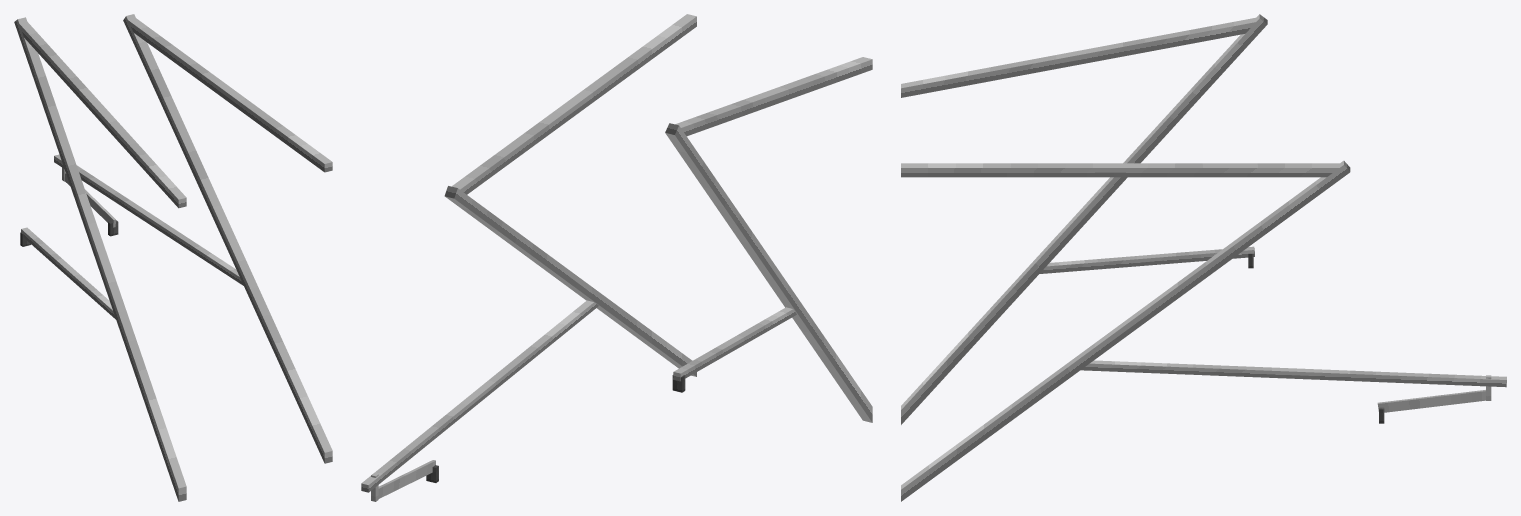
File: cantilever_outer_12px.obj
3 renders of one model, left to right at view 1: azimuth 30°, elevation 25°; view 2: azimuth 150°, elevation 25°; view 3: azimuth 270°, elevation 25°, orthographic. The views are drawn at different scales.
Visible parts, largest first — view 1: 8adb7ac7-01f4-4c60-bfbc-52bb55ed9abe, 7edc1b99-2734-4573-aefd-58bcea4c3765, d285e57c-16e2-46a6-8f0f-abcd75b3137a, 65ffa416-6d30-4f7e-a0d7-afe5b6a3596b, a381d38c-f8b1-497d-aab5-be5fb8c6c08d, 1c099699-9a80-4d9c-9557-8b63555a60a2; view 2: 8adb7ac7-01f4-4c60-bfbc-52bb55ed9abe, d285e57c-16e2-46a6-8f0f-abcd75b3137a, 7edc1b99-2734-4573-aefd-58bcea4c3765, a381d38c-f8b1-497d-aab5-be5fb8c6c08d, 65ffa416-6d30-4f7e-a0d7-afe5b6a3596b, 1c099699-9a80-4d9c-9557-8b63555a60a2, 344703ef-8aad-44cc-b45a-fd79553ca69f; view 3: 7edc1b99-2734-4573-aefd-58bcea4c3765, 8adb7ac7-01f4-4c60-bfbc-52bb55ed9abe, d285e57c-16e2-46a6-8f0f-abcd75b3137a, 65ffa416-6d30-4f7e-a0d7-afe5b6a3596b, a381d38c-f8b1-497d-aab5-be5fb8c6c08d, 1c099699-9a80-4d9c-9557-8b63555a60a2, 344703ef-8aad-44cc-b45a-fd79553ca69f.
Part boxes in pixels (left/top/right/bottom): 8adb7ac7-01f4-4c60-bfbc-52bb55ed9abe: left=14, top=17, right=186, bottom=501; 7edc1b99-2734-4573-aefd-58bcea4c3765: left=123, top=14, right=332, bottom=463; d285e57c-16e2-46a6-8f0f-abcd75b3137a: left=128, top=18, right=332, bottom=172; 65ffa416-6d30-4f7e-a0d7-afe5b6a3596b: left=19, top=21, right=186, bottom=208; a381d38c-f8b1-497d-aab5-be5fb8c6c08d: left=54, top=154, right=243, bottom=285; 1c099699-9a80-4d9c-9557-8b63555a60a2: left=21, top=227, right=115, bottom=319; 8adb7ac7-01f4-4c60-bfbc-52bb55ed9abe: left=665, top=123, right=872, bottom=422; d285e57c-16e2-46a6-8f0f-abcd75b3137a: left=451, top=14, right=696, bottom=194; 7edc1b99-2734-4573-aefd-58bcea4c3765: left=444, top=186, right=696, bottom=376; a381d38c-f8b1-497d-aab5-be5fb8c6c08d: left=361, top=300, right=598, bottom=492; 65ffa416-6d30-4f7e-a0d7-afe5b6a3596b: left=675, top=57, right=872, bottom=136; 1c099699-9a80-4d9c-9557-8b63555a60a2: left=673, top=307, right=796, bottom=381; 344703ef-8aad-44cc-b45a-fd79553ca69f: left=378, top=460, right=435, bottom=498; 7edc1b99-2734-4573-aefd-58bcea4c3765: left=901, top=160, right=1350, bottom=501; 8adb7ac7-01f4-4c60-bfbc-52bb55ed9abe: left=901, top=14, right=1267, bottom=424; d285e57c-16e2-46a6-8f0f-abcd75b3137a: left=901, top=163, right=1339, bottom=177; 65ffa416-6d30-4f7e-a0d7-afe5b6a3596b: left=901, top=17, right=1256, bottom=97; a381d38c-f8b1-497d-aab5-be5fb8c6c08d: left=1081, top=360, right=1506, bottom=387; 1c099699-9a80-4d9c-9557-8b63555a60a2: left=1040, top=246, right=1254, bottom=273; 344703ef-8aad-44cc-b45a-fd79553ca69f: left=1377, top=390, right=1485, bottom=412.
Size of the model in its own units: 1.19 by 2.69 by 3.62.
